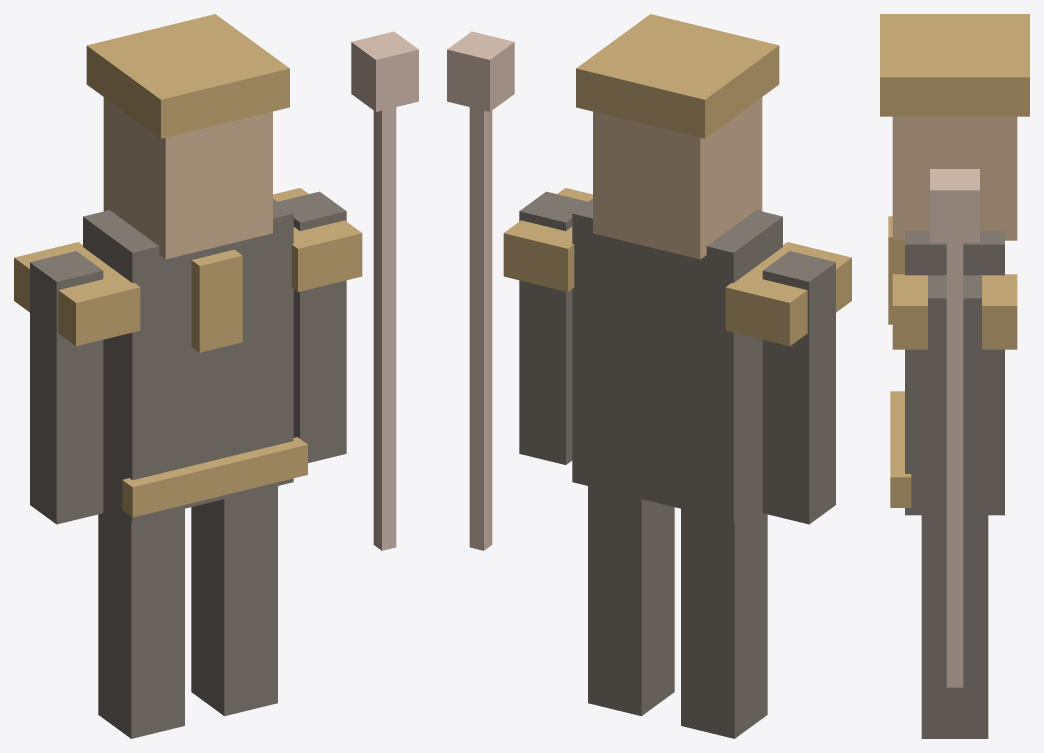
File: 11_tamsin_spirebound_cartographer_at_echo.glb
The picture shows the model from 3 angles, left to right: view 1: azimuth 30°, elevation 25°; view 2: azimuth 150°, elevation 25°; view 3: azimuth 270°, elevation 25°; orthographic projection.
Parts seen in each view (by area): view 1: Tamsin Spirebound, Cartographer at Echo; view 2: Tamsin Spirebound, Cartographer at Echo; view 3: Tamsin Spirebound, Cartographer at Echo.
Part boxes in pixels (box(x1,y1,x2,y2)): Tamsin Spirebound, Cartographer at Echo: box(14, 14, 418, 738); Tamsin Spirebound, Cartographer at Echo: box(447, 14, 851, 738); Tamsin Spirebound, Cartographer at Echo: box(880, 14, 1029, 738).
Size of the model in its own units: 0.9691 by 1.66 by 0.3437.
